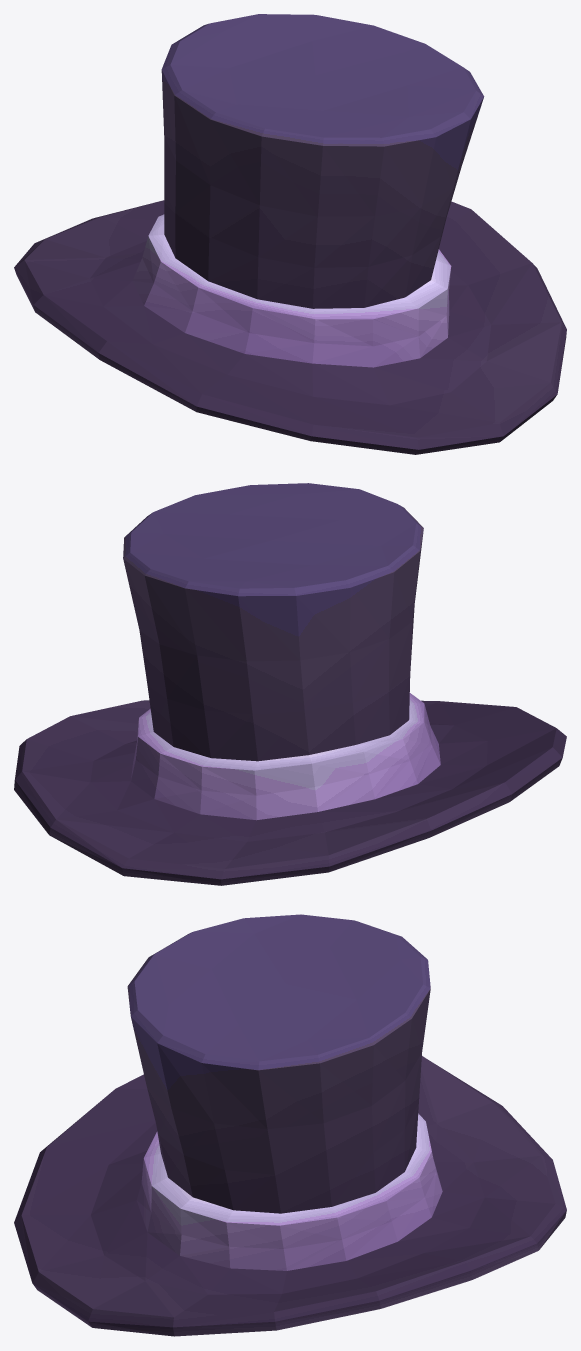
The model's file is CharSkyKid_Horn_TopHat.glb.
3 renders of one model, top to bottom at view 1: azimuth 30°, elevation 25°; view 2: azimuth 150°, elevation 25°; view 3: azimuth 270°, elevation 25°, orthographic. The views are drawn at different scales.
Visible parts, largest first — view 1: CharSkyKid_Horn_TopHat; view 2: CharSkyKid_Horn_TopHat; view 3: CharSkyKid_Horn_TopHat.
Boxes of the visible parts, box(x1,y1,x2,y2) form: CharSkyKid_Horn_TopHat: box(14, 14, 566, 454); CharSkyKid_Horn_TopHat: box(14, 483, 566, 885); CharSkyKid_Horn_TopHat: box(14, 914, 566, 1336).
Bounding box in the file's own units: 4.3 × 2.66 × 4.42.
1 material, 1 textured.
